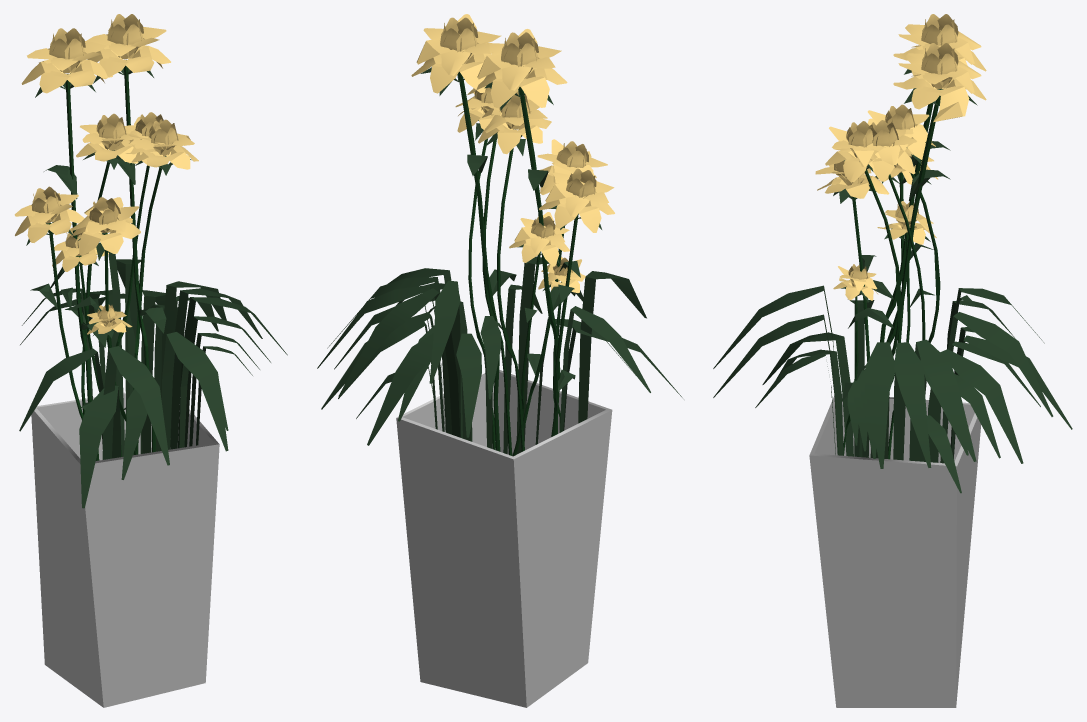
Rendered from flowers2.obj.
3 renders of one model, left to right at view 1: azimuth 30°, elevation 25°; view 2: azimuth 150°, elevation 25°; view 3: azimuth 270°, elevation 25°, orthographic. The views are drawn at different scales.
Visible parts, largest first — view 1: flowers:mbvase, flowers:mbleaf, flowers:mbflower, flowers:mbstems; view 2: flowers:mbvase, flowers:mbleaf, flowers:mbflower, flowers:mbstems; view 3: flowers:mbvase, flowers:mbleaf, flowers:mbflower, flowers:mbstems.
Part boxes in pixels (x1,y1,x2,y2): flowers:mbvase: (31, 392, 219, 707); flowers:mbleaf: (19, 68, 287, 508); flowers:mbflower: (14, 14, 198, 334); flowers:mbstems: (48, 60, 161, 460); flowers:mbvase: (396, 370, 612, 707); flowers:mbleaf: (317, 67, 682, 454); flowers:mbflower: (411, 14, 614, 292); flowers:mbstems: (458, 71, 578, 456); flowers:mbvase: (809, 394, 981, 707); flowers:mbleaf: (713, 69, 1072, 493); flowers:mbflower: (815, 14, 986, 300); flowers:mbstems: (843, 89, 940, 459).
Size of the model in its own units: 11.47 by 24.94 by 12.58.
